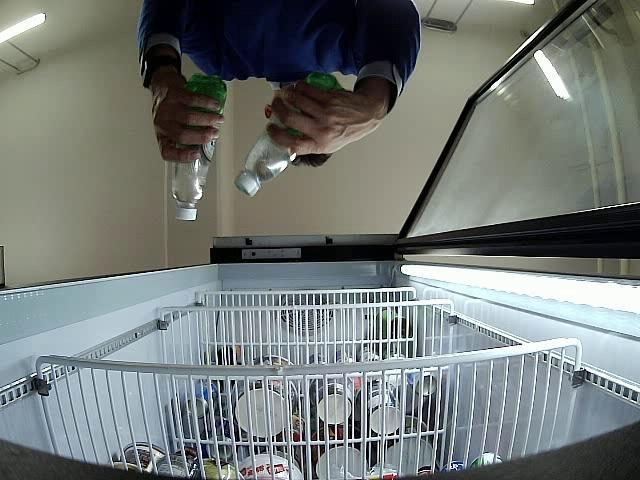18_trevi: (235, 76, 347, 198), (172, 74, 226, 221)
